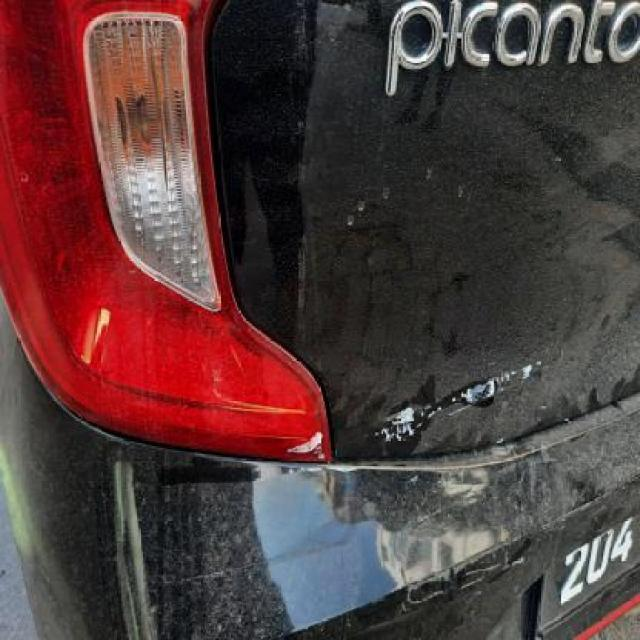car damage: (249, 446, 402, 635), (479, 92, 599, 207), (493, 430, 608, 542), (376, 514, 473, 612), (441, 465, 488, 500)
